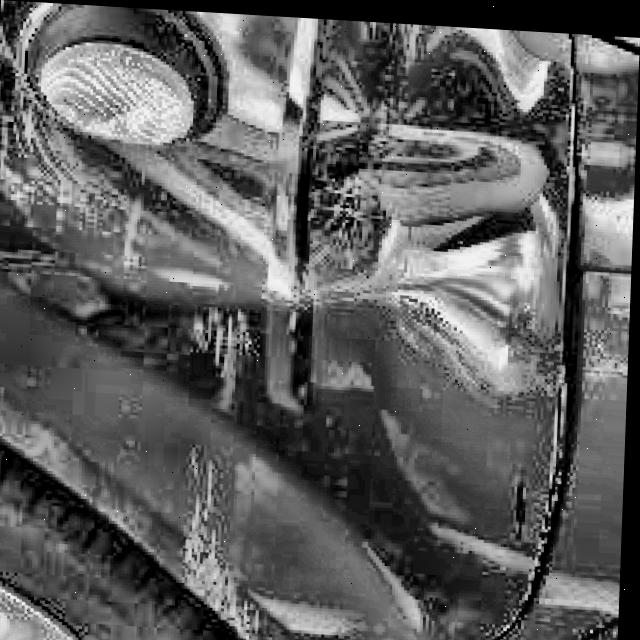bumper_dent: (257, 127, 375, 294), (262, 299, 320, 411)
bumper_scratch: (169, 451, 252, 637), (186, 303, 251, 368)
